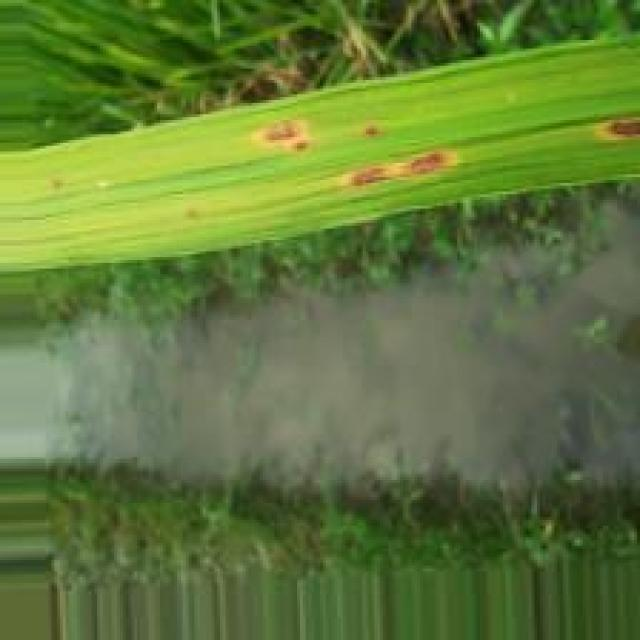Brown_Spot: (342, 148, 457, 189), (253, 118, 317, 154), (592, 116, 640, 141), (360, 124, 385, 142)
